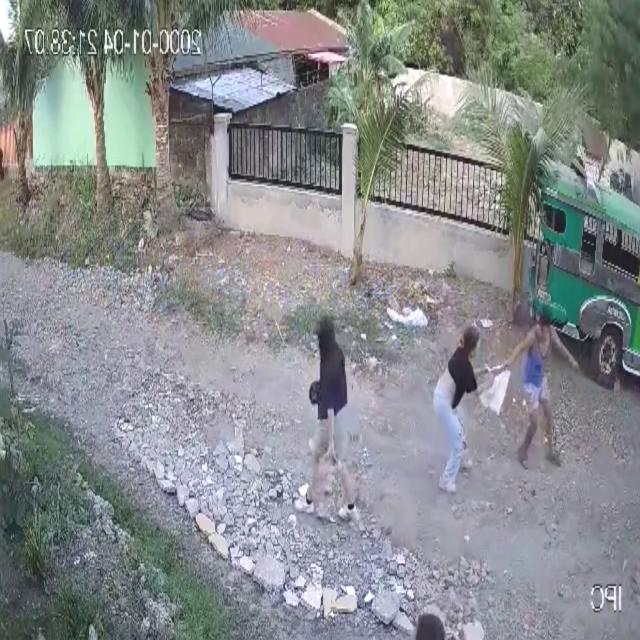walking: (293, 310, 361, 526)
